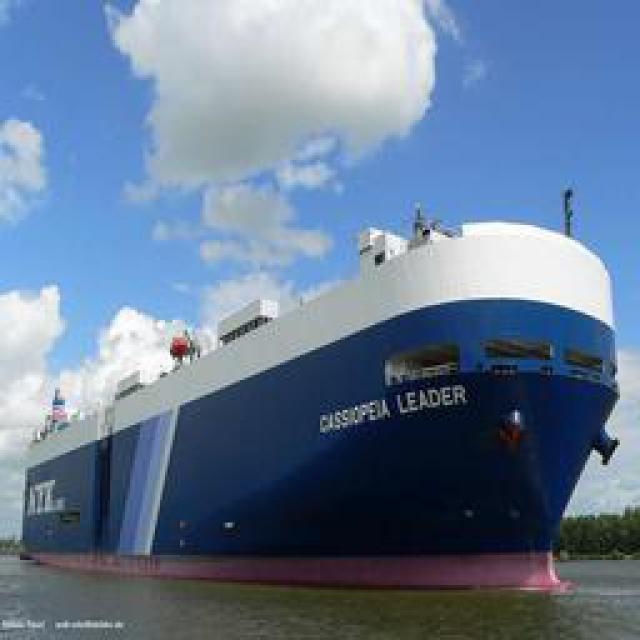Ship: (19, 186, 633, 599)
